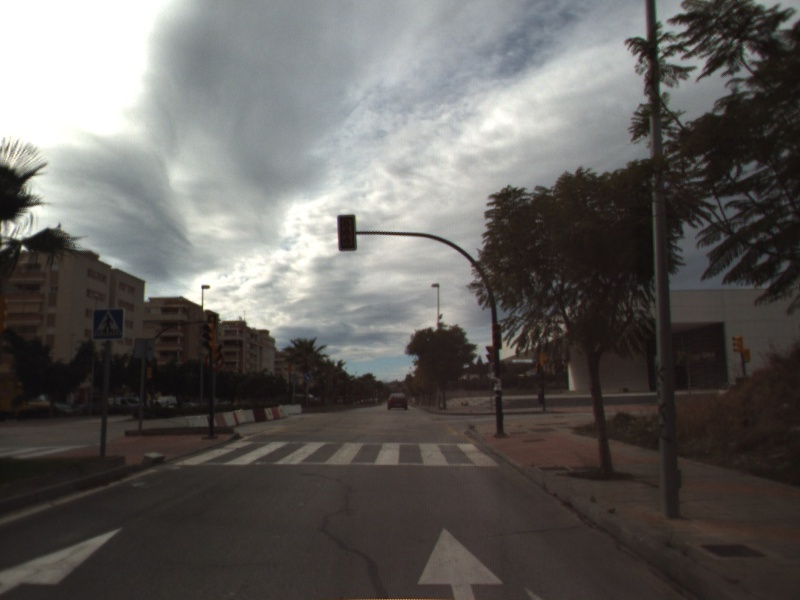STRAIGHT: (1, 525, 126, 597), (415, 524, 507, 600)
